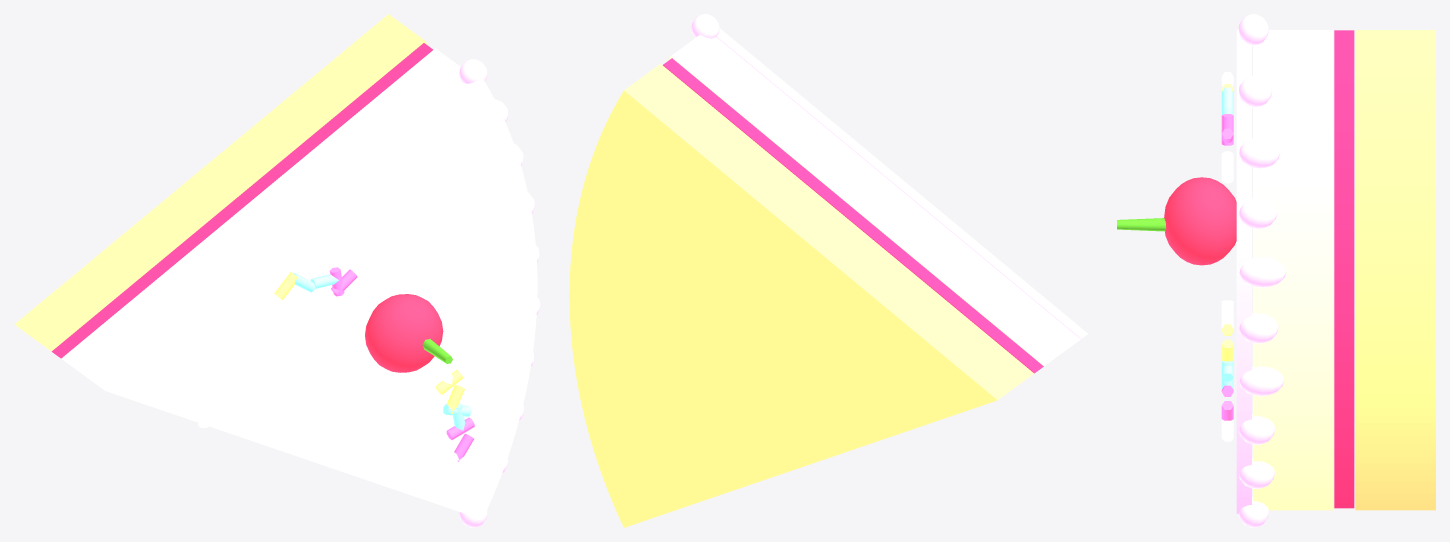
Rendered from cake_slice.glb.
3 views of the same model, side by side, from view 1: azimuth 30°, elevation 25°; view 2: azimuth 150°, elevation 25°; view 3: azimuth 270°, elevation 25° (orthographic). The views are drawn at different scales.
Visible parts, largest first — view 1: CakeSlice; view 2: CakeSlice; view 3: CakeSlice.
Part boxes in pixels (x1,y1,x2,y2): CakeSlice: [14, 14, 540, 527]; CakeSlice: [569, 14, 1087, 527]; CakeSlice: [1117, 14, 1435, 527].
Bounding box in the file's own units: 1.39 × 1.4 × 0.7925.
